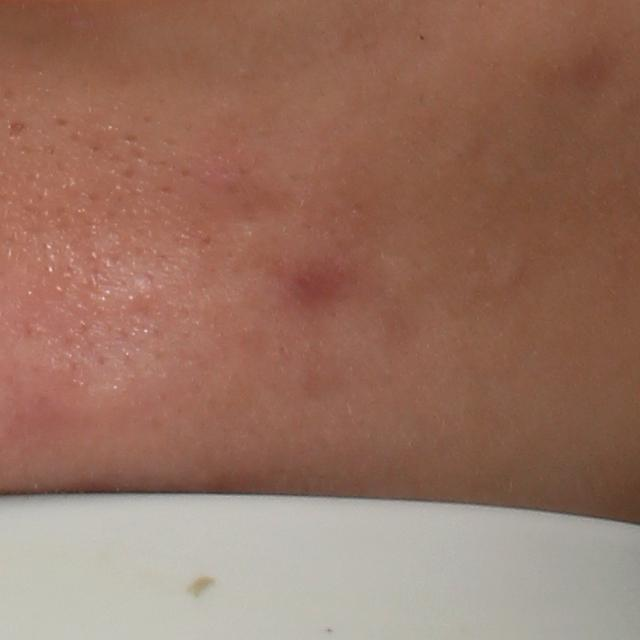atrophic_scar: (273, 262, 357, 325), (6, 118, 30, 139)
